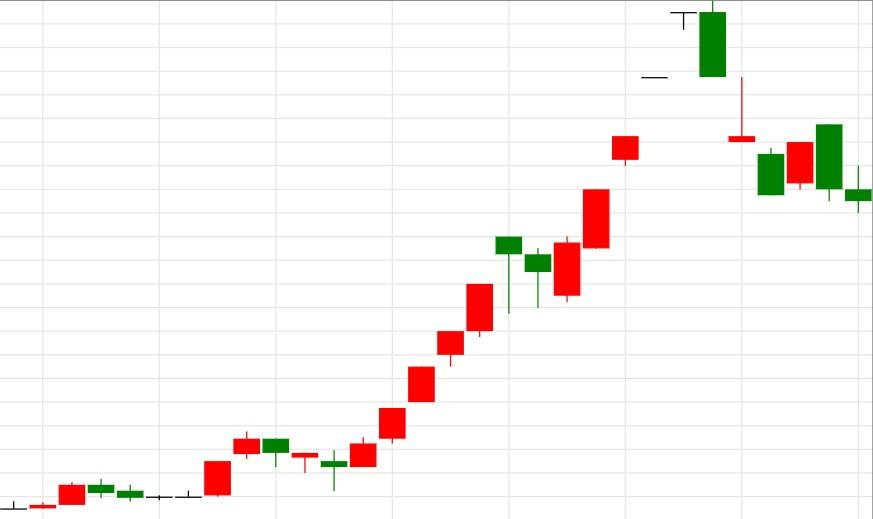three_white_soldiers_rise: (232, 367, 436, 491)
